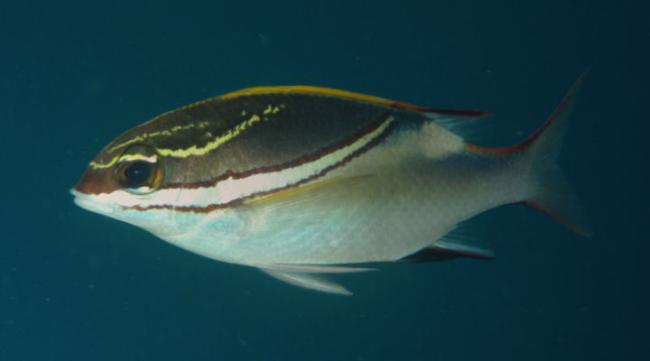fish: (69, 70, 593, 297)
